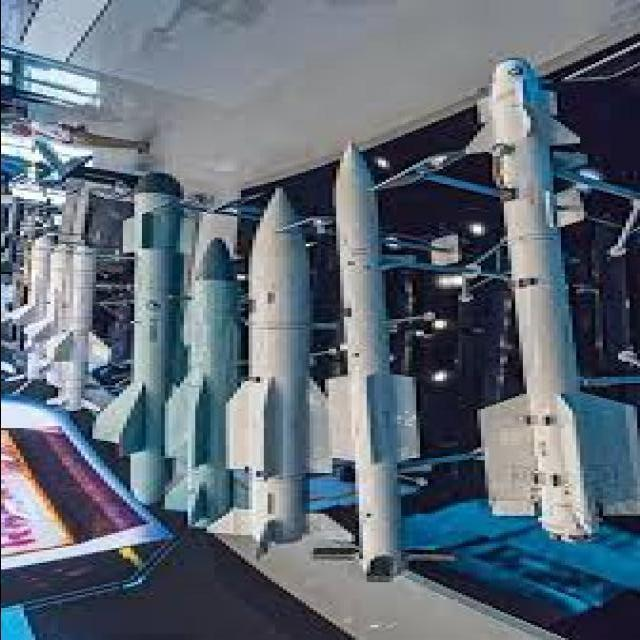missile: (455, 52, 640, 527), (217, 177, 352, 569), (326, 140, 428, 599), (94, 161, 197, 526), (167, 237, 253, 549), (45, 240, 122, 424)
